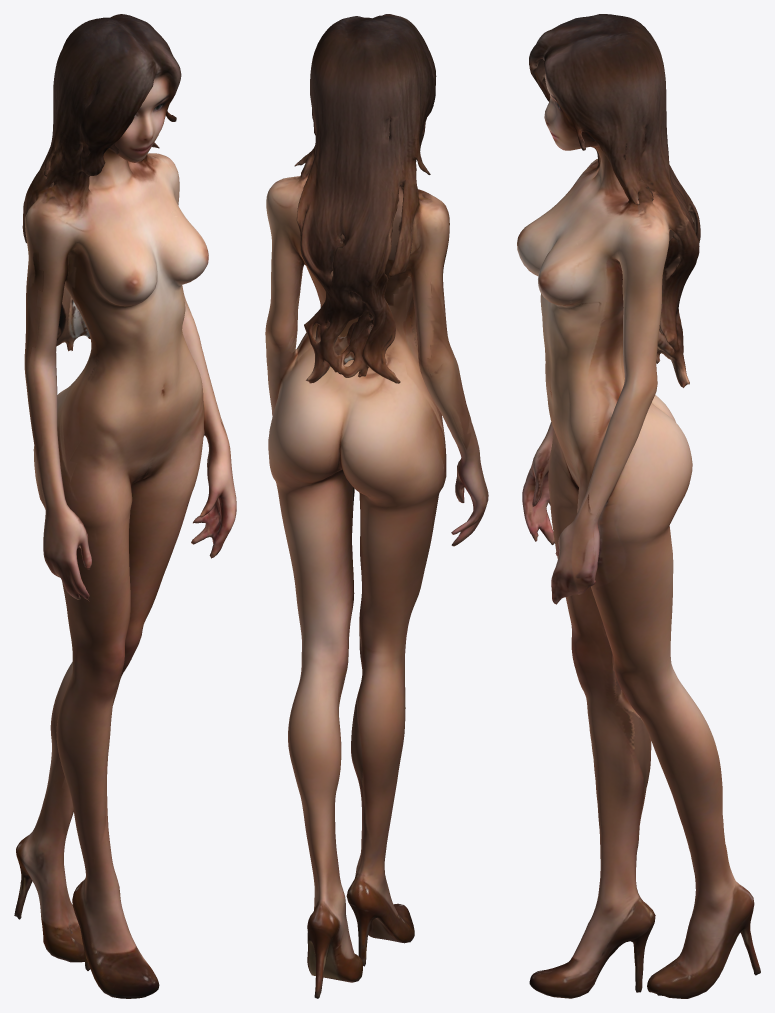
Rendered from beautiful_02.glb.
3 renders of one model, left to right at view 1: azimuth 30°, elevation 25°; view 2: azimuth 150°, elevation 25°; view 3: azimuth 270°, elevation 25°, orthographic. The views are drawn at different scales.
Visible parts, largest first — view 1: Object_3; view 2: Object_3; view 3: Object_3.
Boxes of the visible parts, box(x1,y1,x2,y2) form: Object_3: box(14, 14, 236, 998); Object_3: box(265, 14, 488, 998); Object_3: box(517, 14, 760, 998).
Bounding box in the file's own units: 0.4415 × 2 × 0.4526.
1 material, 1 textured.
